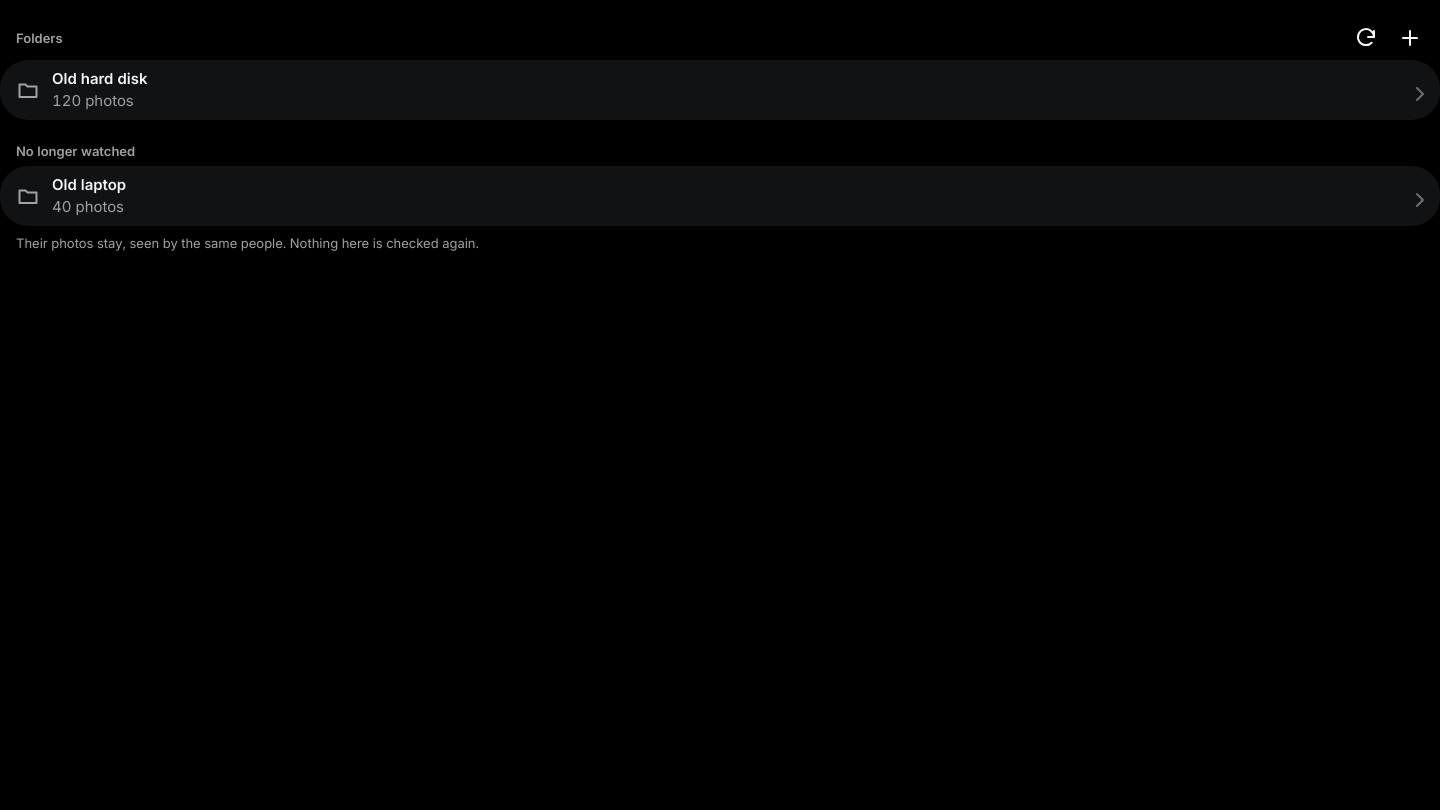
it: Folders list › lists a folder no longer watched apart, with its photos, access and a final Remove
The width and height of the screenshot is (1440, 810).
Click the button "Old laptop 40 photos".
click(89, 185)  # box [0,166,1439,226]
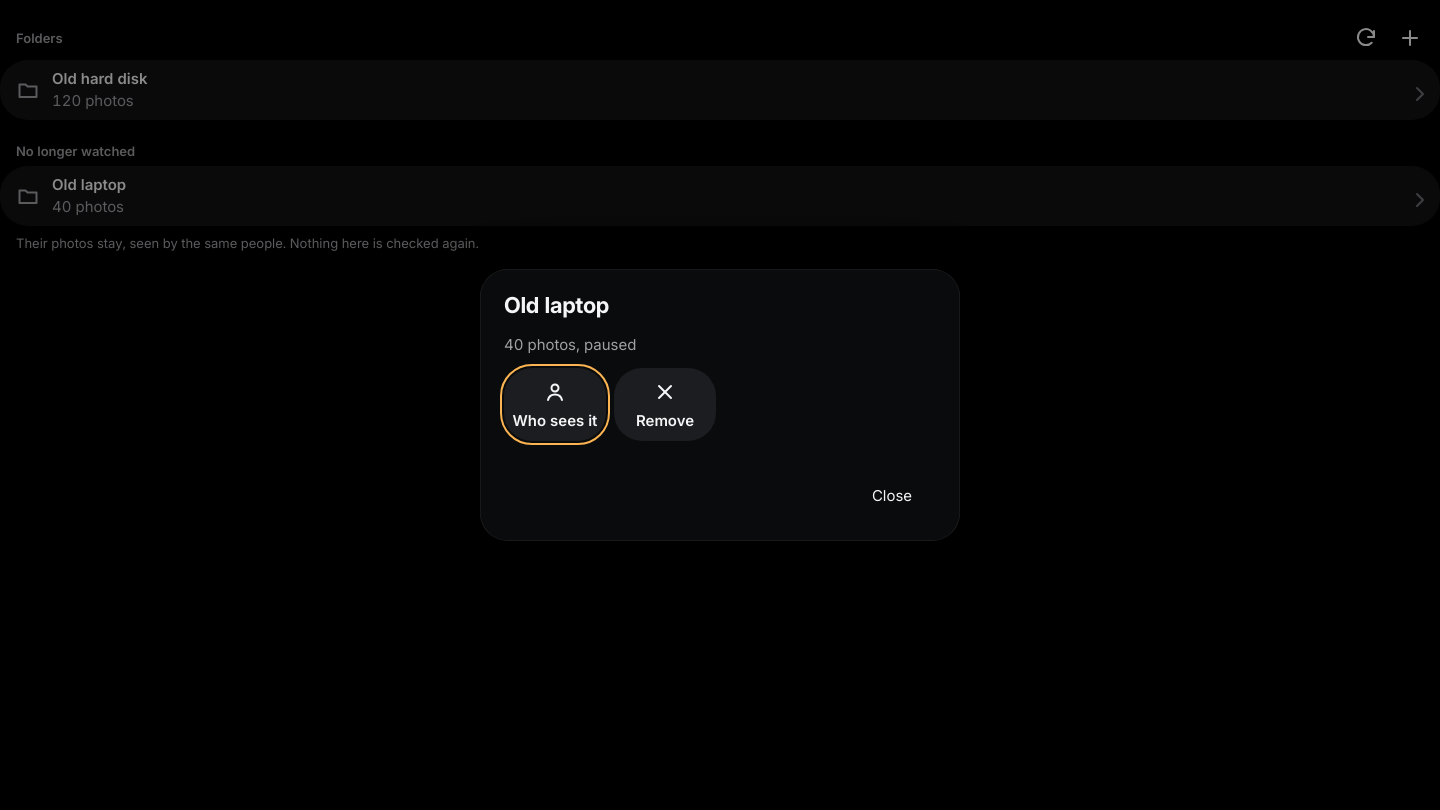
Result: the button "Who sees it" is shown at [504,368,606,441]
Result: the button "Remove" is shown at [614,368,716,441]
